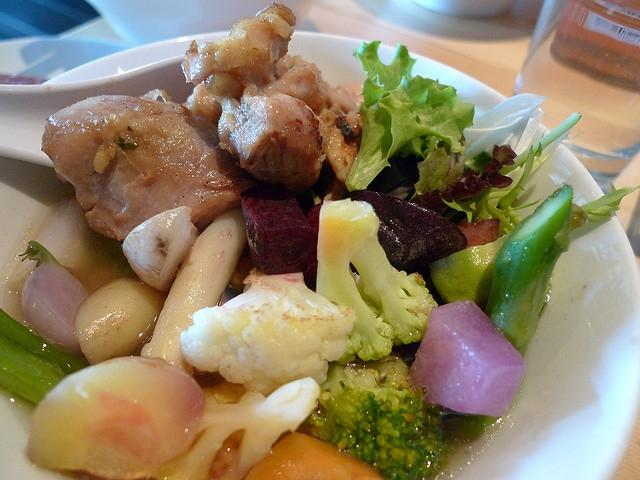broccoli: (316, 198, 438, 366), (296, 348, 448, 478), (485, 185, 573, 363)
cauliflower: (180, 268, 356, 396), (316, 198, 439, 362), (160, 377, 320, 477)
celery: (0, 309, 89, 405)
lettuce: (346, 40, 476, 192), (496, 144, 542, 222)
onion: (408, 298, 525, 415), (123, 206, 200, 294), (22, 260, 88, 346)
